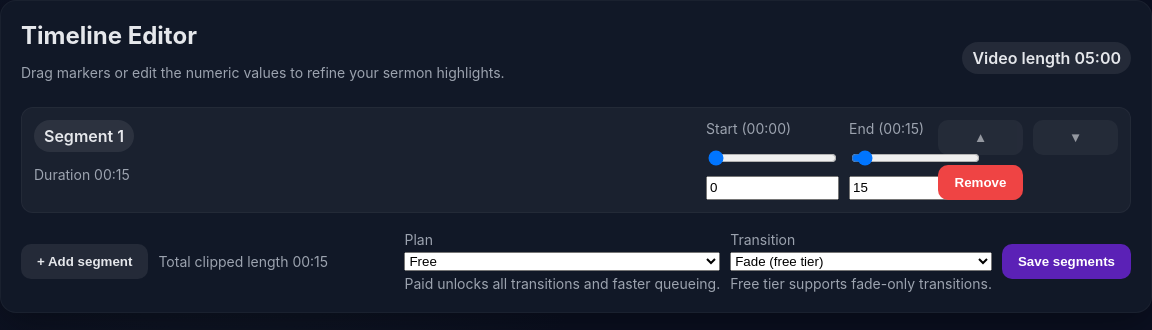
SegmentTimeline › updates duration labels when bounds change
Replace the text in the number field named "End input" with "45" at point(916, 188), box 849,176 -> 982,200
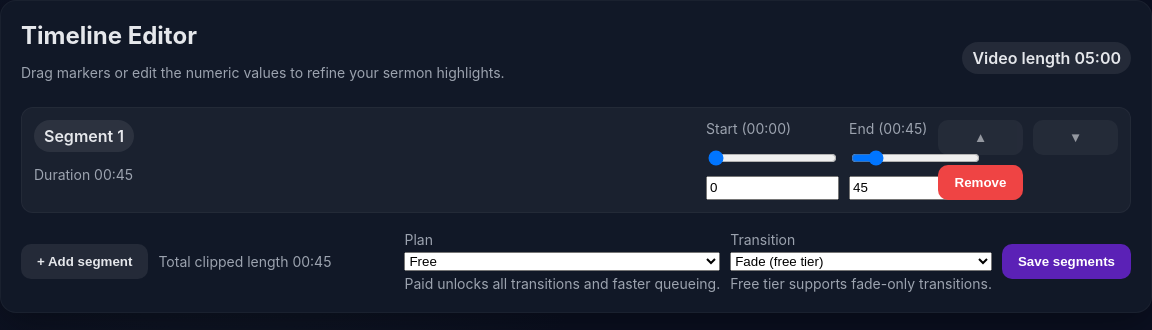
Result: the text with test id "segment-duration" shows "00:45" at 94,166 -> 133,183
